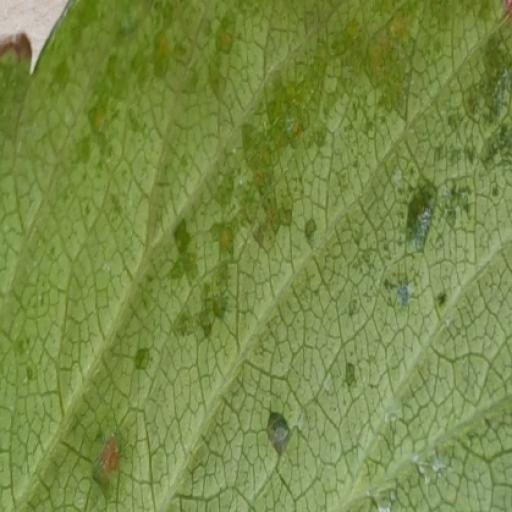Angular Leafspot: (0, 22, 511, 511)
